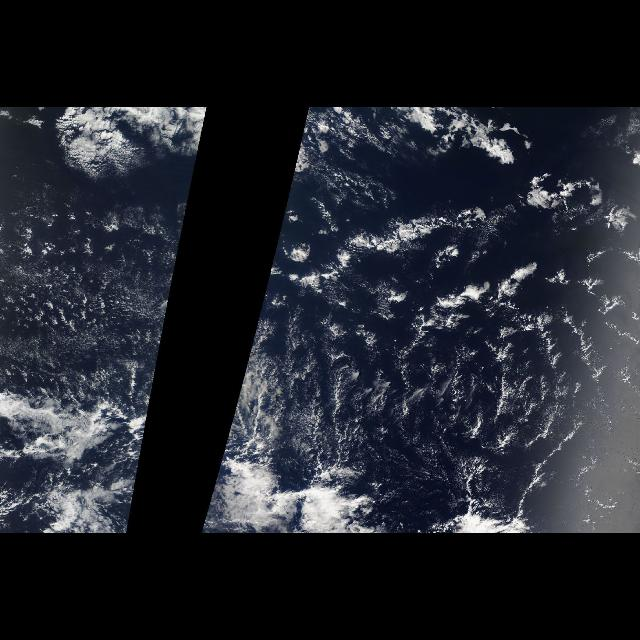Sugar: (1, 210, 160, 398)
